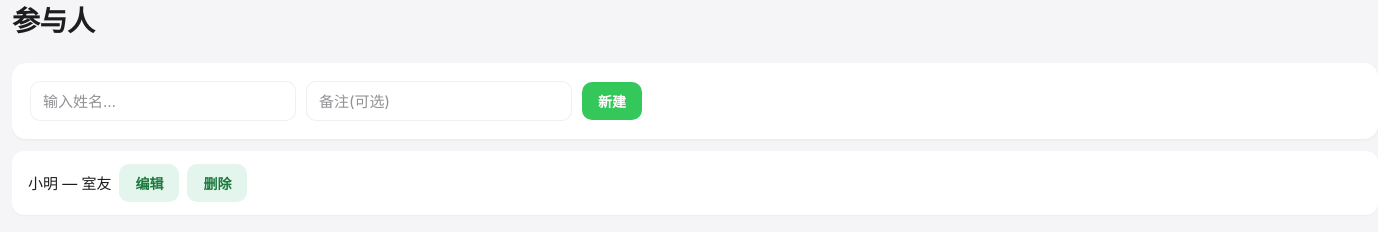
Scenario: 参与人管理组件 › 删除参与人后列表移除
Expected: the list item "小明 — 室友 编辑 删除" is shown, [12, 151, 1377, 215]
Click the button "删除". click: click(218, 183)
box: [188, 164, 248, 202]
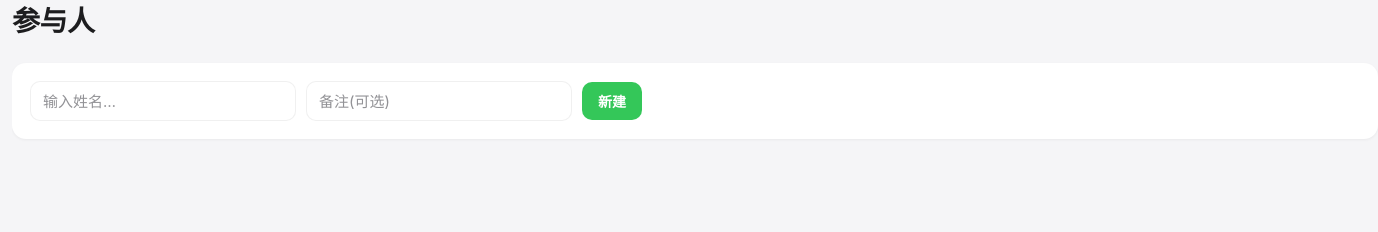
Expected: the list item "小明" is gone
